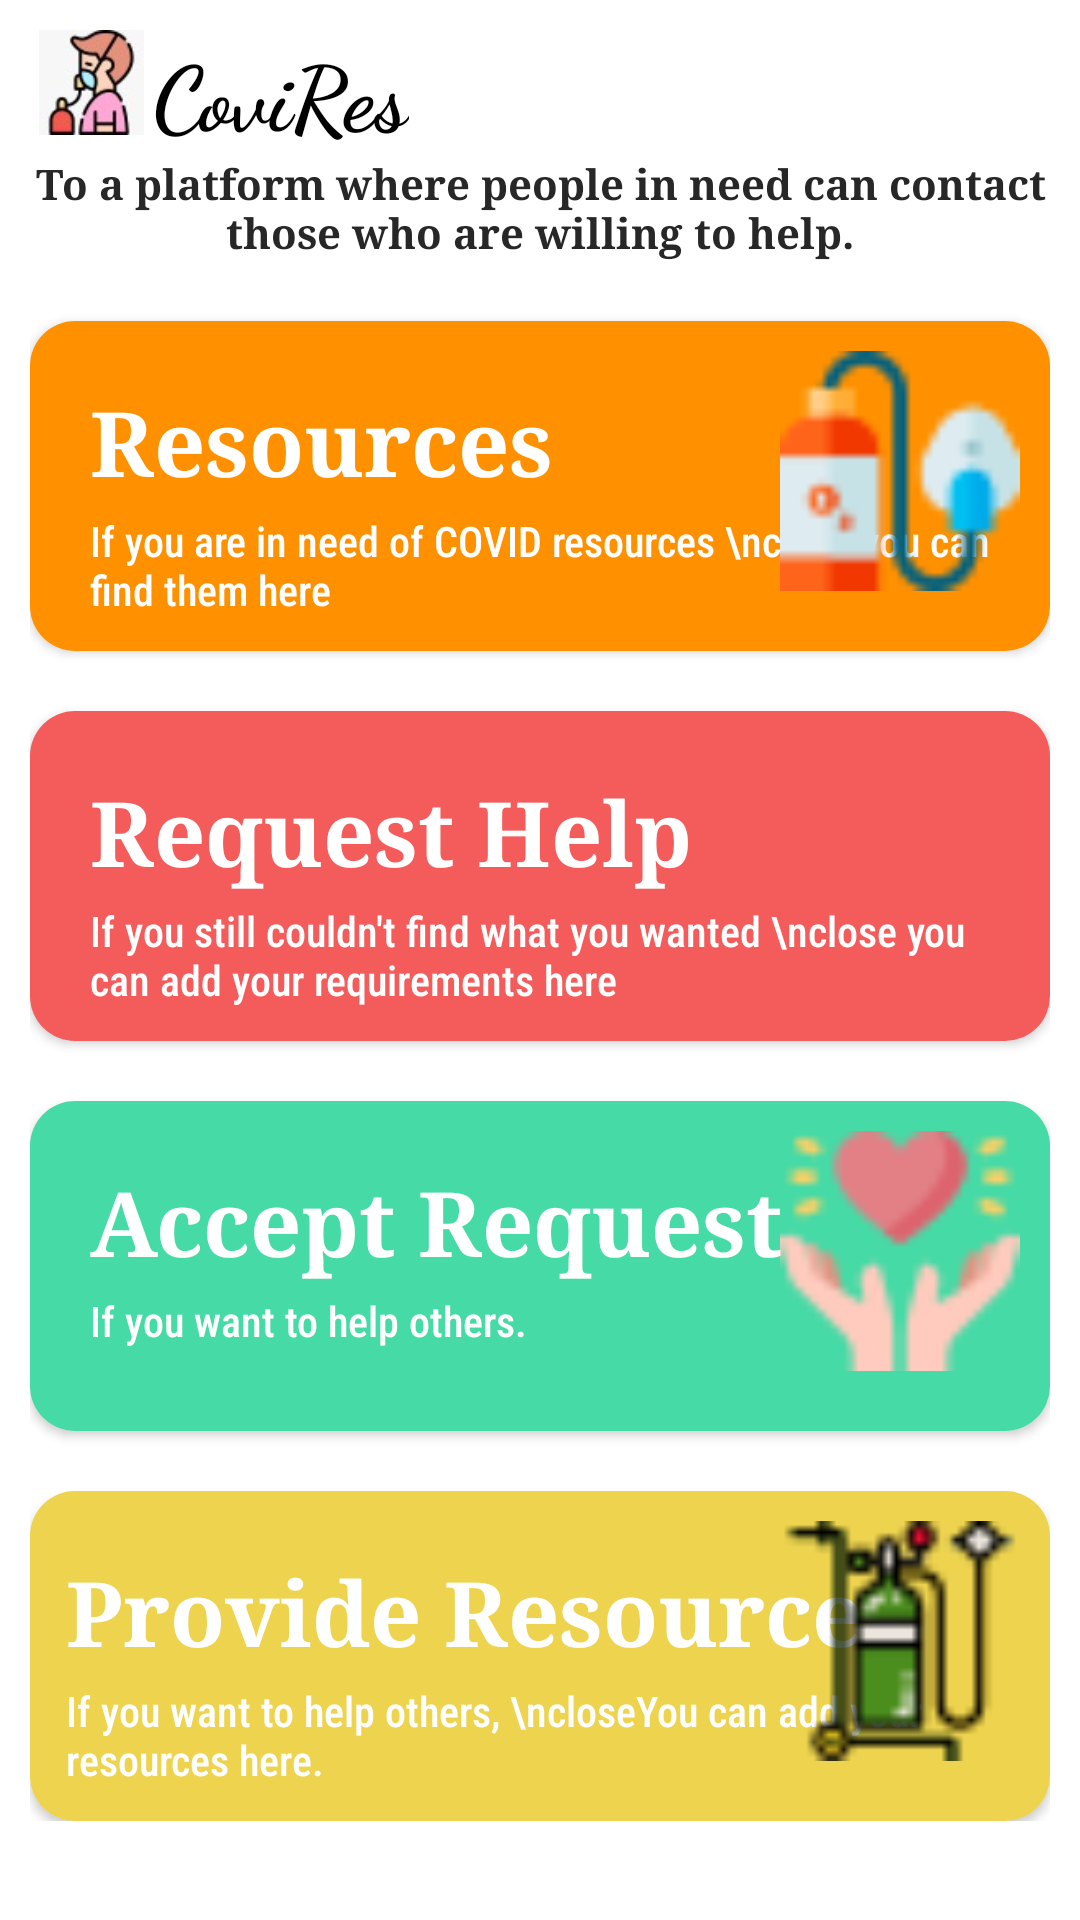

Icons on this 1080 × 1920 Android screen, each with its box as (x1, y1, x2, y2):
want to help: (780, 1131, 1020, 1371)
